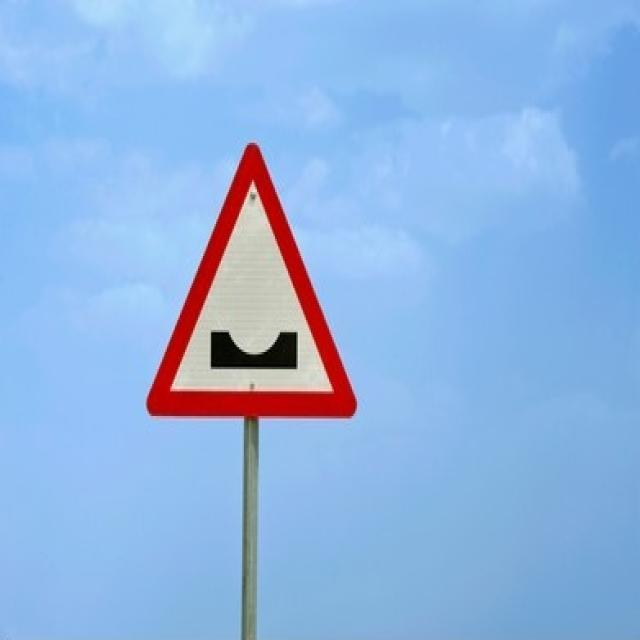dangerous dip: (146, 139, 357, 417)
